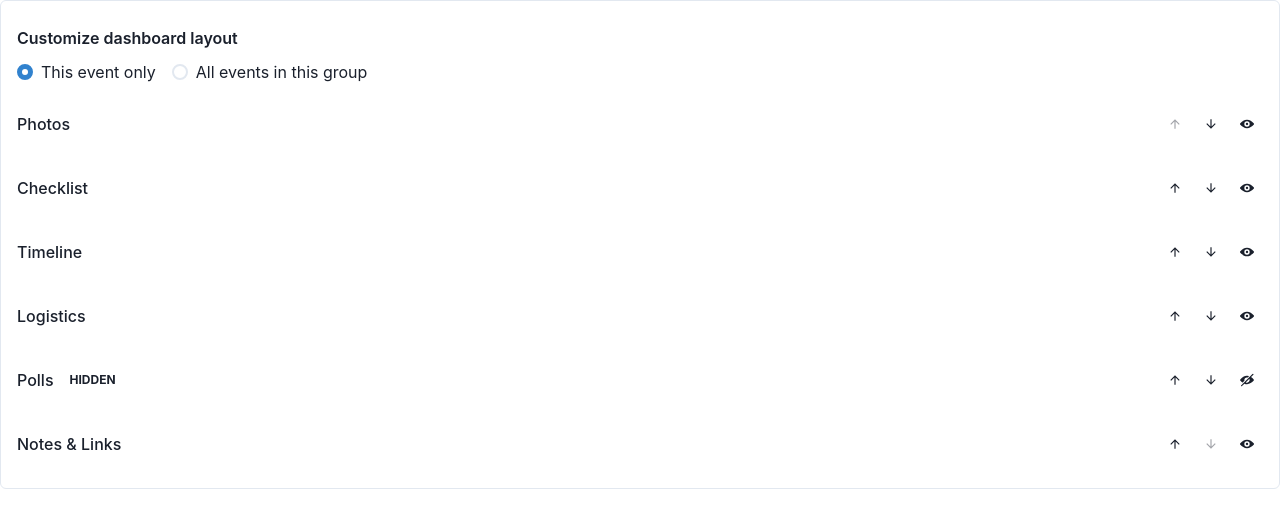
Test: DashboardWidgetCustomizer › scope (Story 14.5) › edits the group layout without touching the event layout in group scope
Click the radio button labelled "All events in this group" at (270, 72), box left=172, top=60, right=367, bottom=84
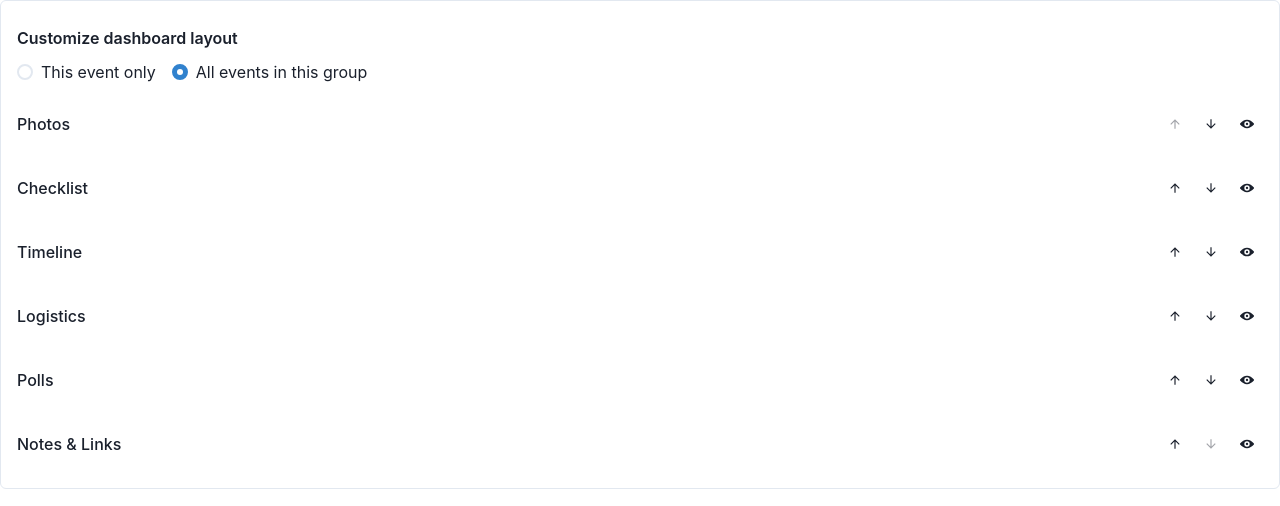
Now the button named "Hide Polls" is shown, box left=1231, top=356, right=1263, bottom=404
Click the button named "Hide Photos" at (1247, 124), box left=1231, top=100, right=1263, bottom=148
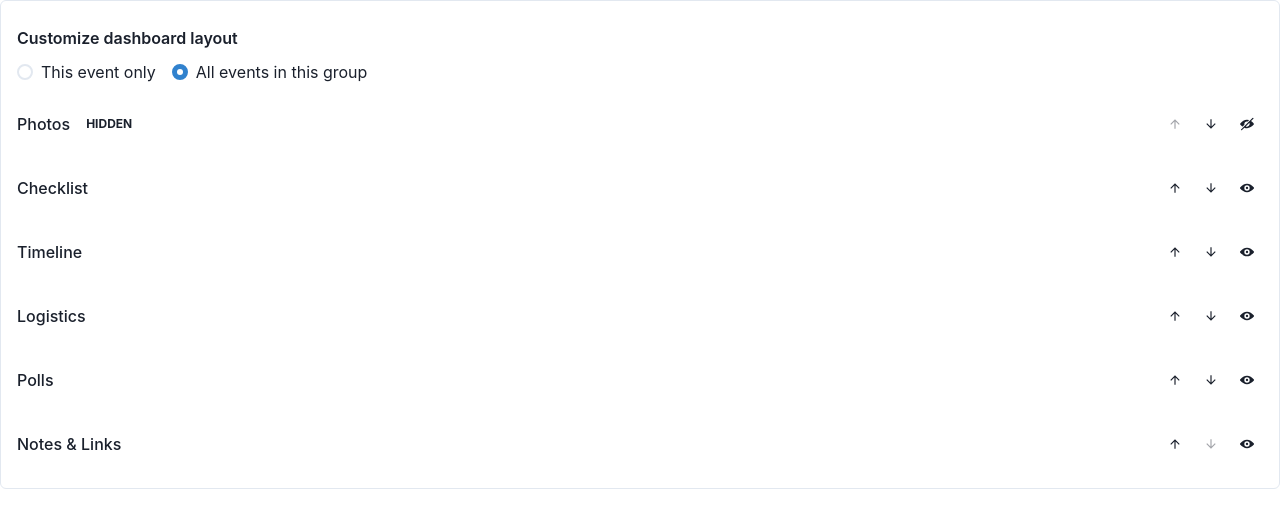
Now the text "Hidden" is shown, box left=82, top=115, right=136, bottom=133
Note: Switching back shows the untouched event layout (Polls hidden, Photos visible).
Click the radio button labelled "This event only" at (86, 72), box left=17, top=60, right=156, bottom=84
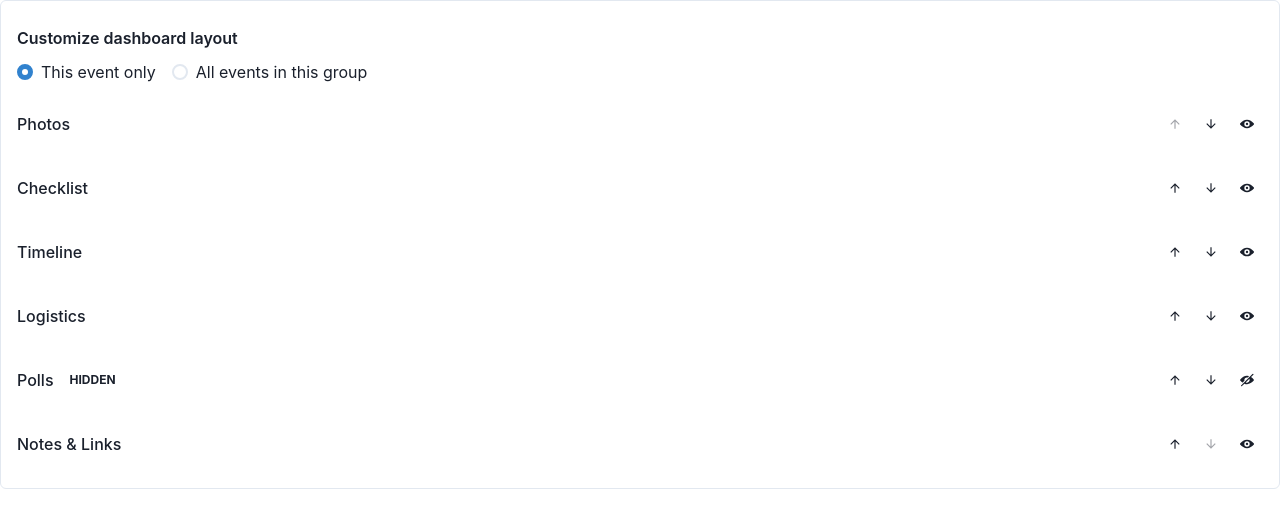
Now the button named "Show Polls" is shown, box left=1231, top=356, right=1263, bottom=404
Now the button named "Hide Photos" is shown, box left=1231, top=100, right=1263, bottom=148
